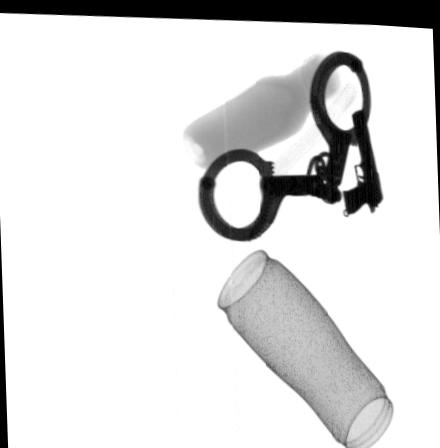Gun: (340, 101, 384, 211)
HandCuffs: (196, 44, 373, 238)
